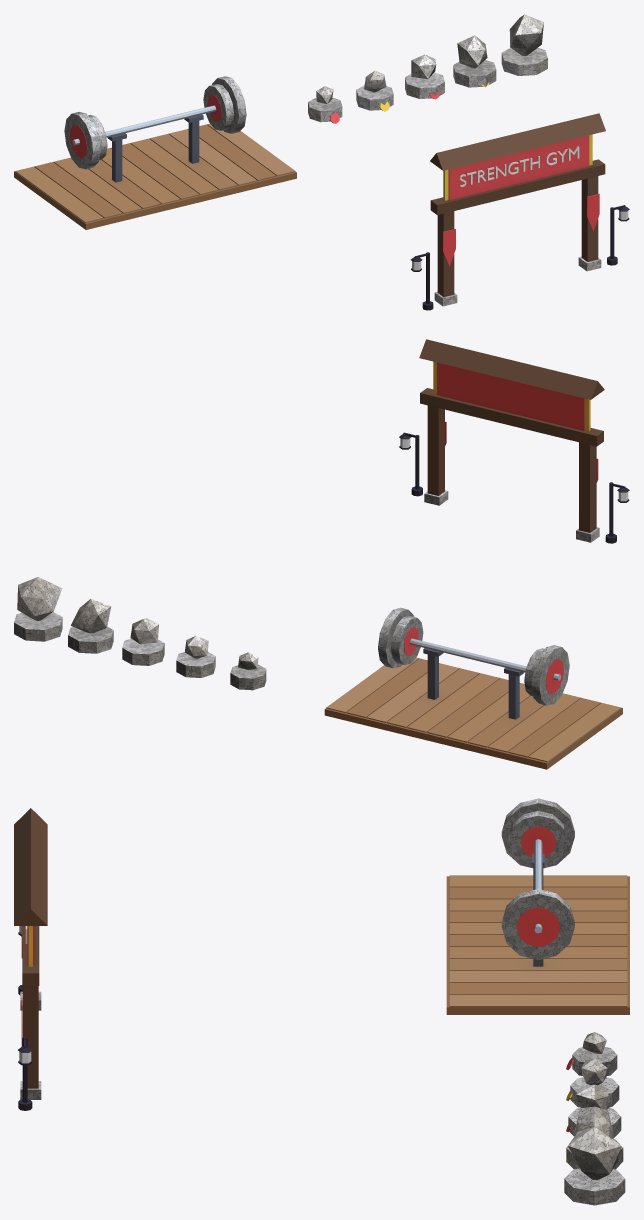
Rendered from area_gym_2_5.fbx.
3 views of the same model, one above another, from view 1: azimuth 30°, elevation 25°; view 2: azimuth 150°, elevation 25°; view 3: azimuth 270°, elevation 25° (orthographic). The views are drawn at different scales.
Parts seen in each view (by area): view 1: area_gym_2_5_body; view 2: area_gym_2_5_body; view 3: area_gym_2_5_body.
Part boxes in pixels (bbox=[...]): area_gym_2_5_body: bbox=[14, 14, 629, 310]; area_gym_2_5_body: bbox=[14, 339, 629, 769]; area_gym_2_5_body: bbox=[14, 798, 629, 1205].
Size of the model in its own units: 13490 by 3783 by 10925.
Materials: 2 (1 with a texture image).
